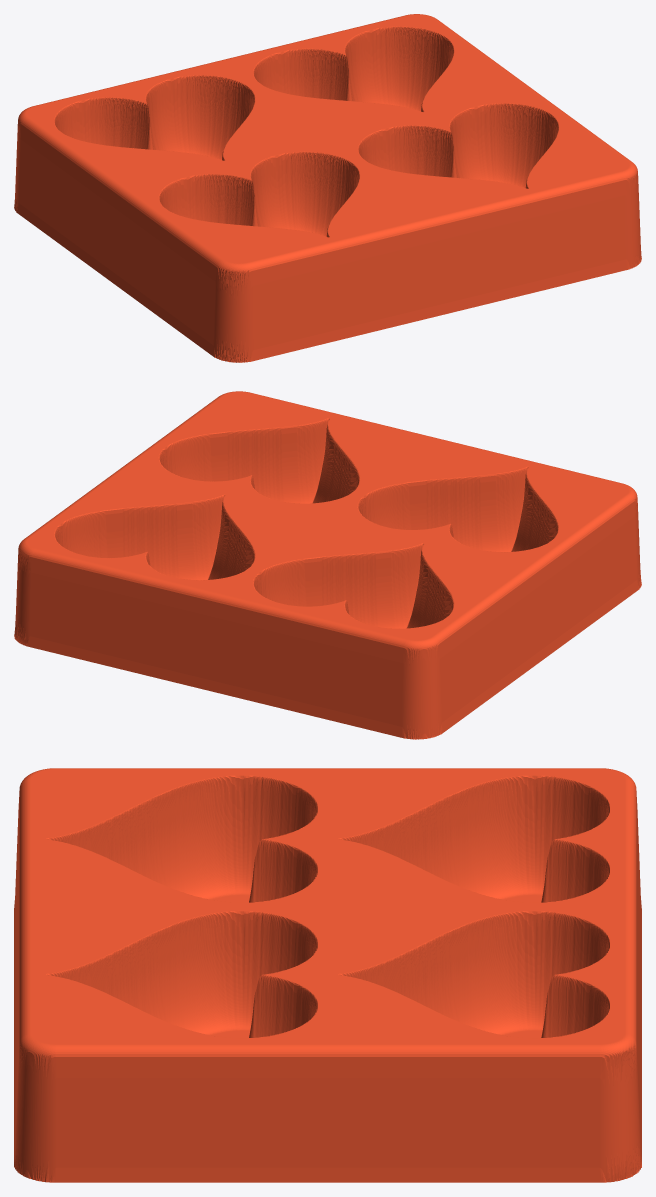
File: mold.glb
3 renders of one model, top to bottom at view 1: azimuth 30°, elevation 25°; view 2: azimuth 150°, elevation 25°; view 3: azimuth 270°, elevation 25°, orthographic. The views are drawn at different scales.
Parts seen in each view (by area): view 1: geometry_0; view 2: geometry_0; view 3: geometry_0.
Boxes of the visible parts, x1,y1,x2,y2 form: geometry_0: (14, 14, 641, 362); geometry_0: (14, 391, 641, 739); geometry_0: (14, 768, 641, 1182).
Size of the model in its own units: 0.1466 by 0.031 by 0.1344.
